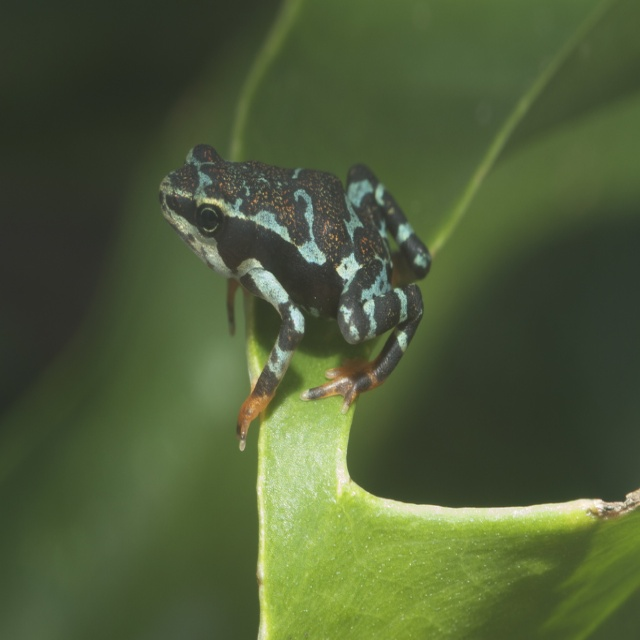Frog: (155, 143, 430, 447)
